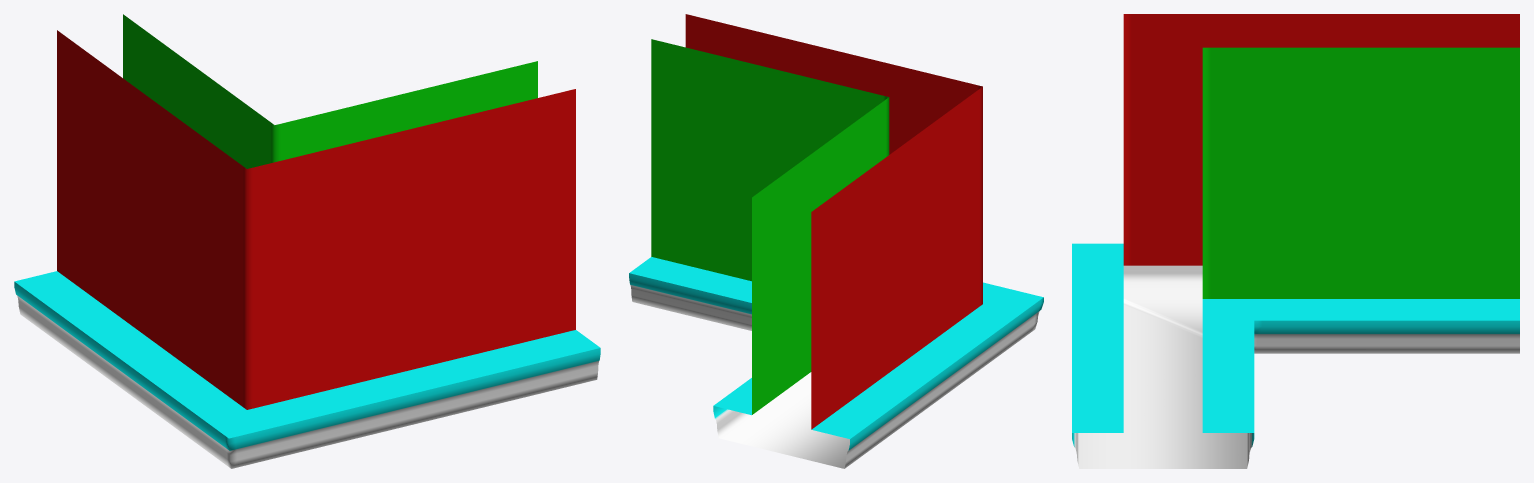
The model's file is SM_FriezeArchDualOpenCorner2.5m.fbx.
3 views of the same model, side by side, from view 1: azimuth 30°, elevation 25°; view 2: azimuth 150°, elevation 25°; view 3: azimuth 270°, elevation 25° (orthographic). The views are drawn at different scales.
Parts seen in each view (by area): view 1: SM_FriezeArchDualOpenCorner2.5m; view 2: SM_FriezeArchDualOpenCorner2.5m; view 3: SM_FriezeArchDualOpenCorner2.5m.
Boxes of the visible parts, bbox=[...] form: SM_FriezeArchDualOpenCorner2.5m: bbox=[14, 14, 600, 468]; SM_FriezeArchDualOpenCorner2.5m: bbox=[629, 14, 1043, 468]; SM_FriezeArchDualOpenCorner2.5m: bbox=[1072, 14, 1519, 468].
Size of the model in its own units: 282 by 200 by 282.
